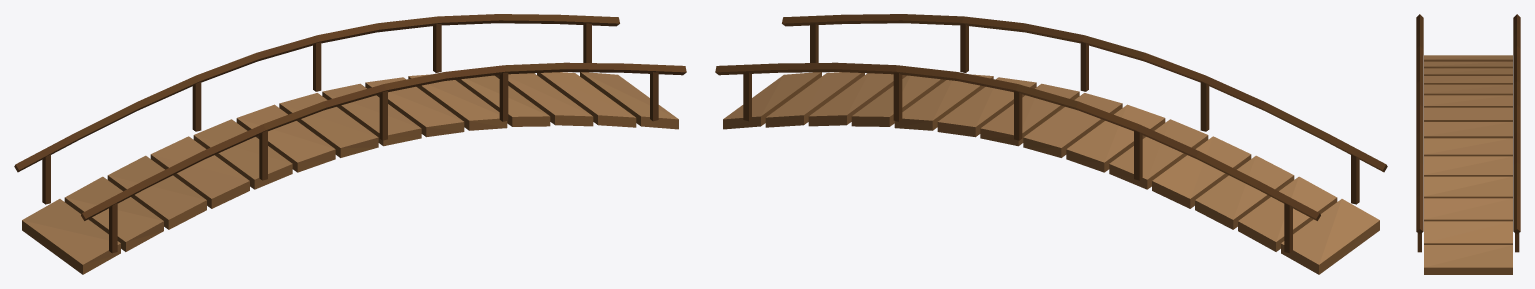
Rendered from bridge.glb.
The picture shows the model from 3 angles, left to right: view 1: azimuth 30°, elevation 25°; view 2: azimuth 150°, elevation 25°; view 3: azimuth 270°, elevation 25°; orthographic projection. The views are drawn at different scales.
Visible parts, largest first — view 1: base; view 2: base; view 3: base.
Boxes of the visible parts, box(x1,y1,x2,y2) form: base: box(14, 14, 686, 274); base: box(715, 14, 1387, 274); base: box(1416, 14, 1520, 274).
Bounding box in the file's own units: 2.51 × 0.4779 × 0.5159.
